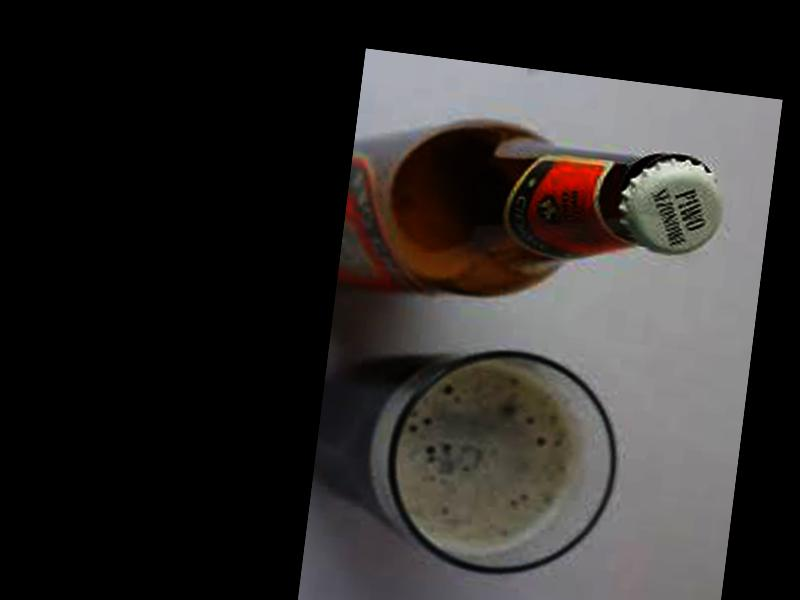Beer: (335, 105, 729, 334)
